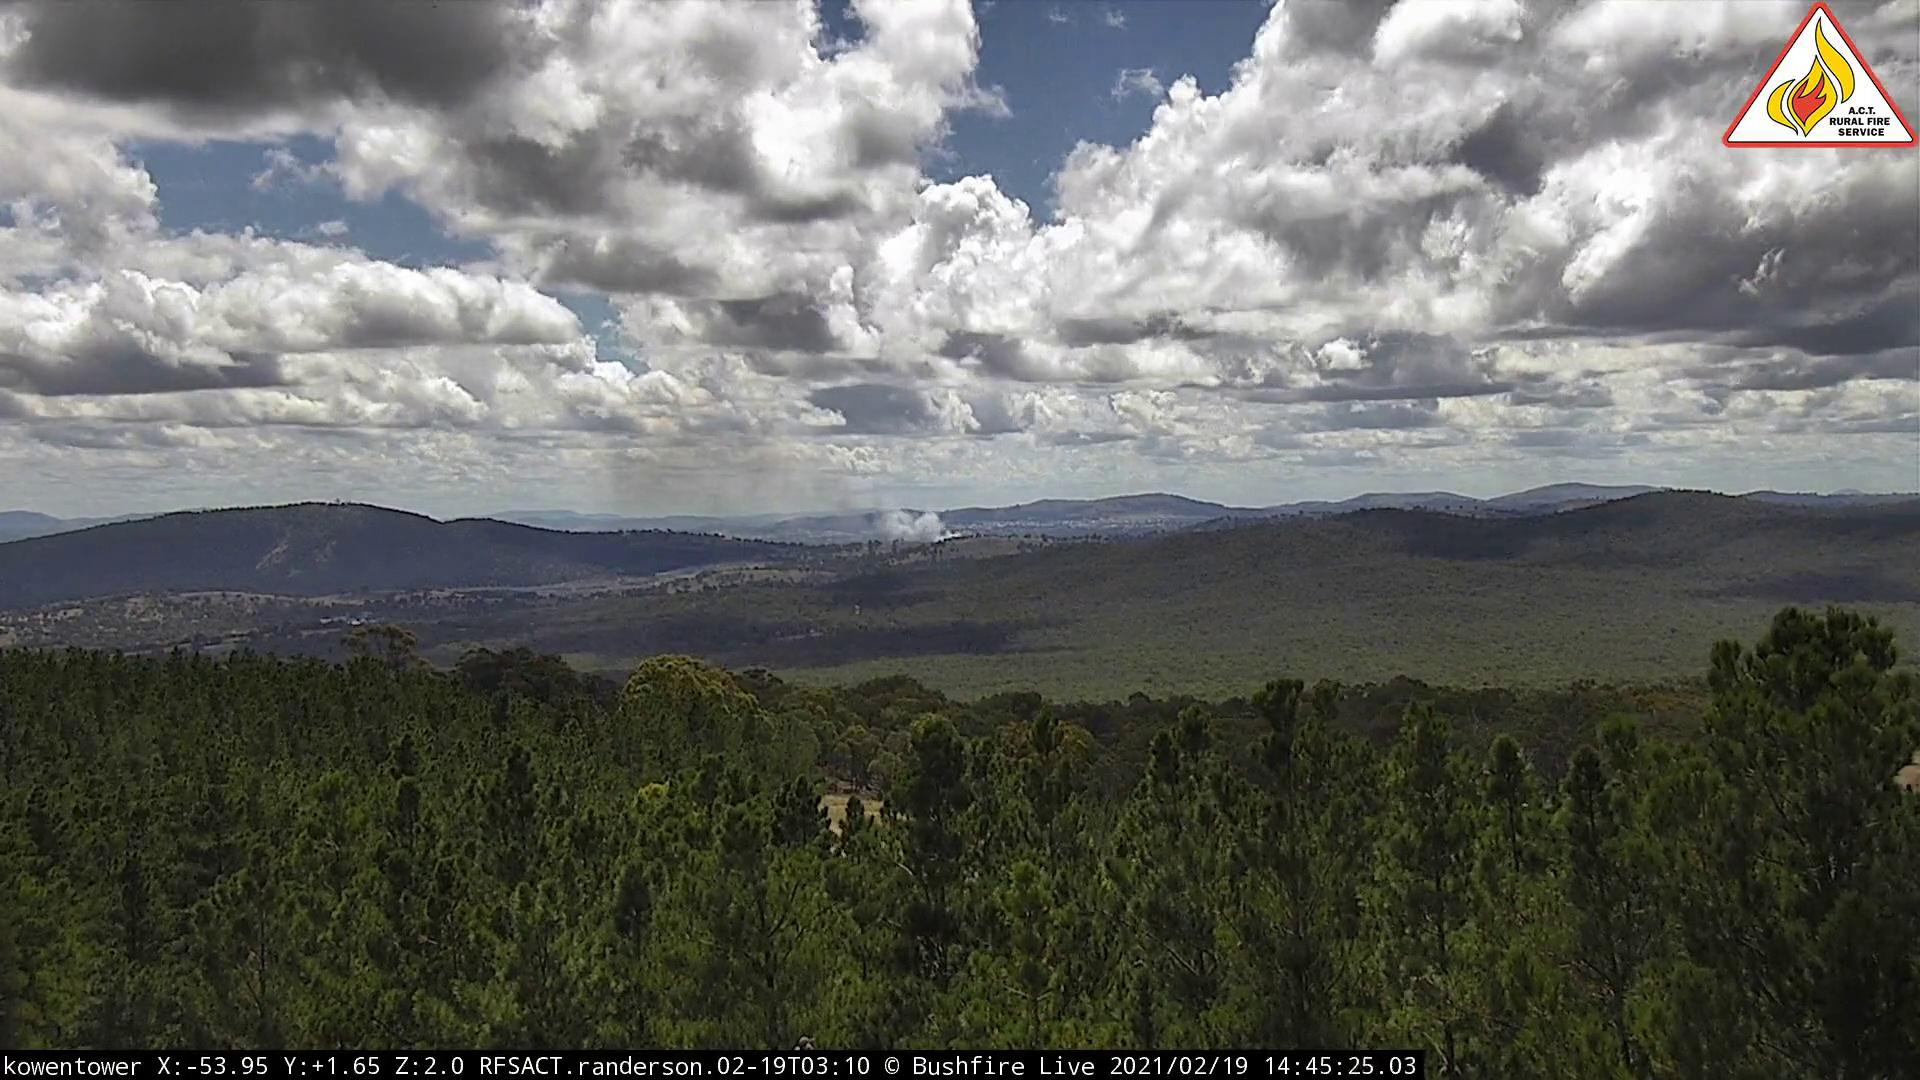instance_salient_object: (603, 433, 967, 550)
